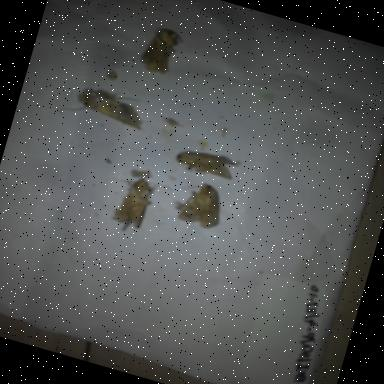abw: (48, 72, 156, 144), (100, 164, 173, 248), (160, 172, 237, 242), (162, 138, 254, 195), (128, 16, 194, 86)
